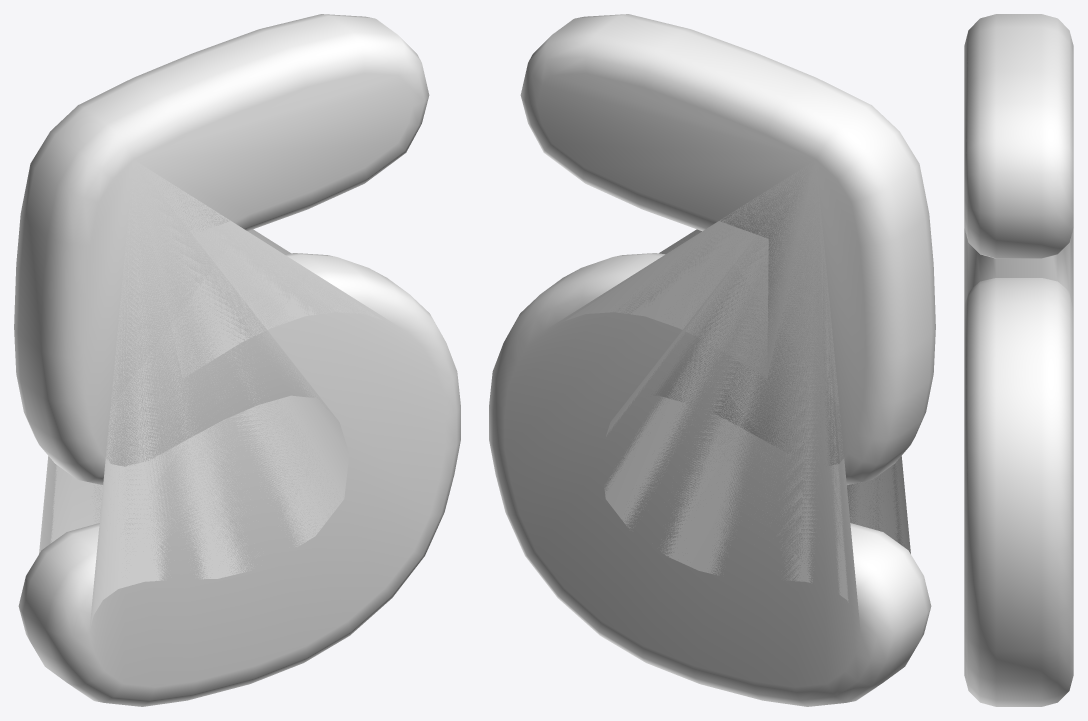
The model's file is NumberFive 2.fbx.
3 renders of one model, left to right at view 1: azimuth 30°, elevation 25°; view 2: azimuth 150°, elevation 25°; view 3: azimuth 270°, elevation 25°, orthographic.
Parts seen in each view (by area): view 1: Vert.018; view 2: Vert.018; view 3: Vert.018.
Boxes of the visible parts, x1,y1,x2,y2 form: Vert.018: (14, 14, 460, 706); Vert.018: (489, 14, 935, 706); Vert.018: (964, 14, 1073, 706).
Bounding box in the file's own units: 310 × 444 × 69.56.
